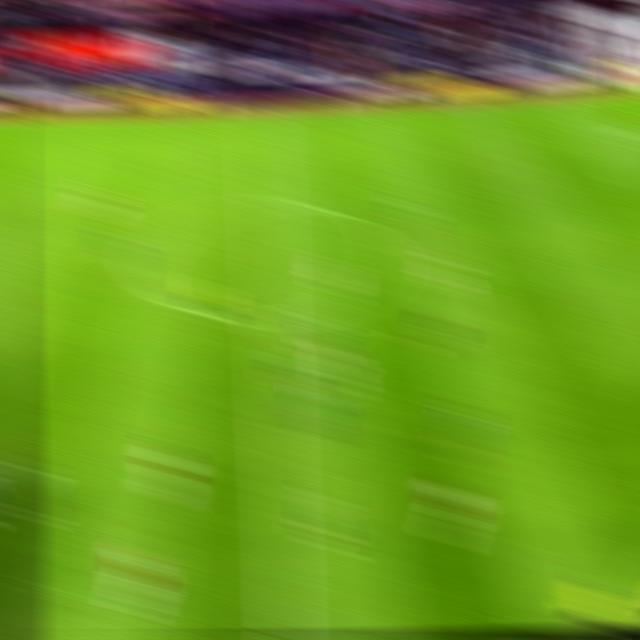bigarea_top_inner: (613, 114, 640, 154)
halfcircle_bottom: (247, 298, 293, 340)
halfcircle_top: (242, 182, 290, 222)
midline_top_intersection: (242, 91, 285, 133)
